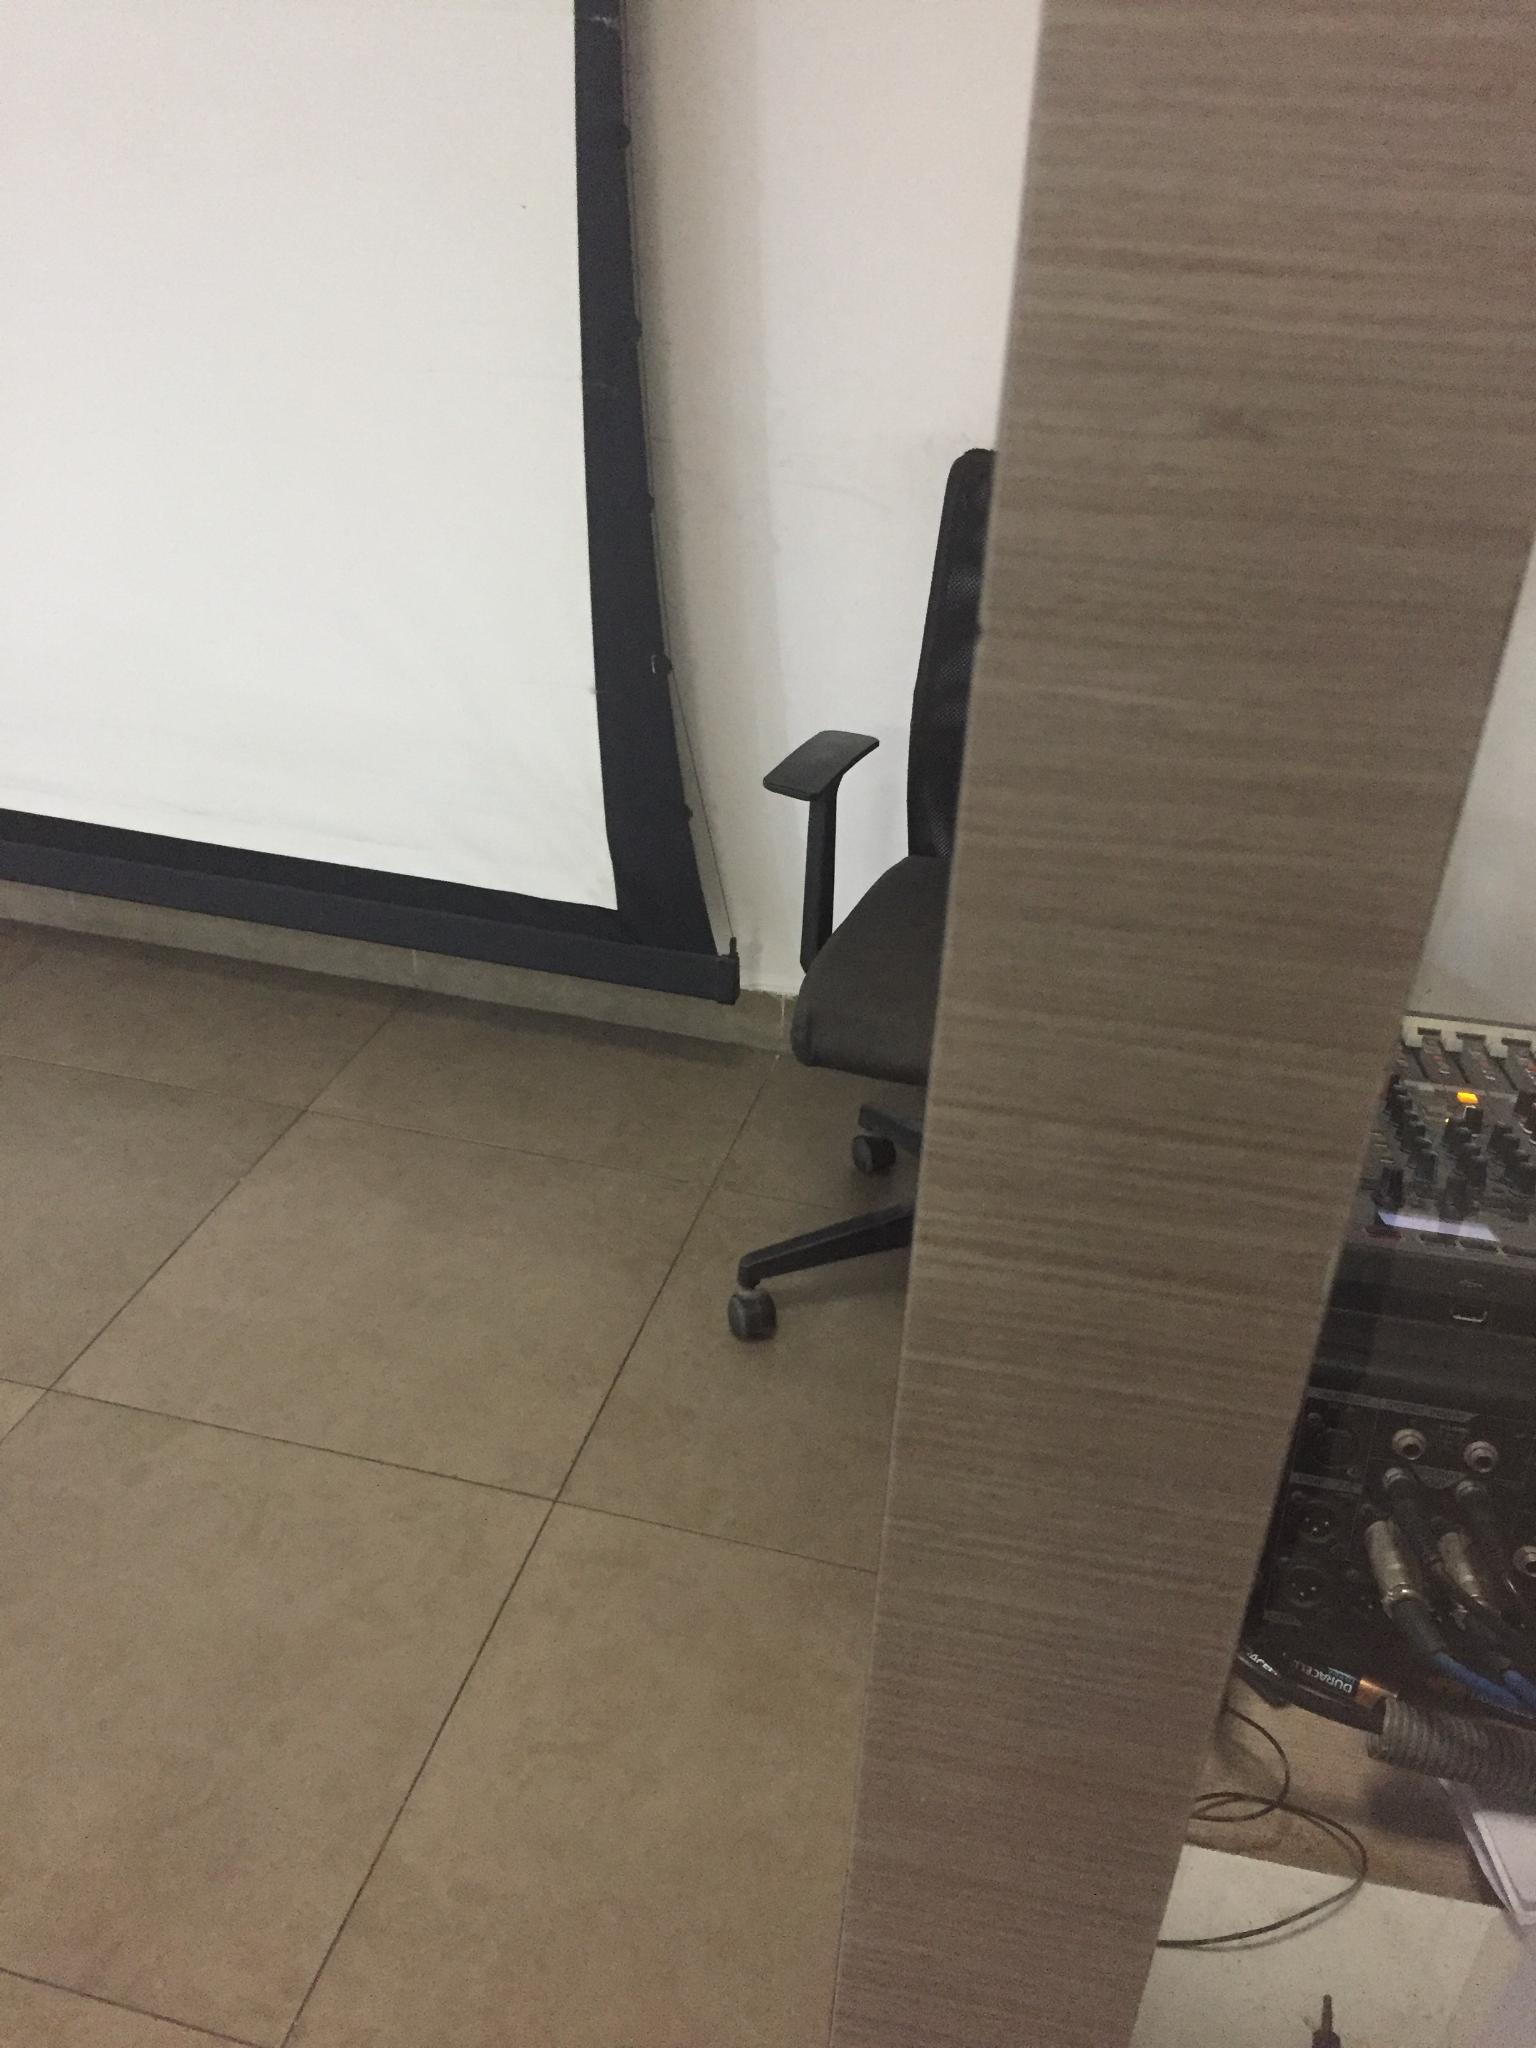chair: (726, 445, 994, 1342)
